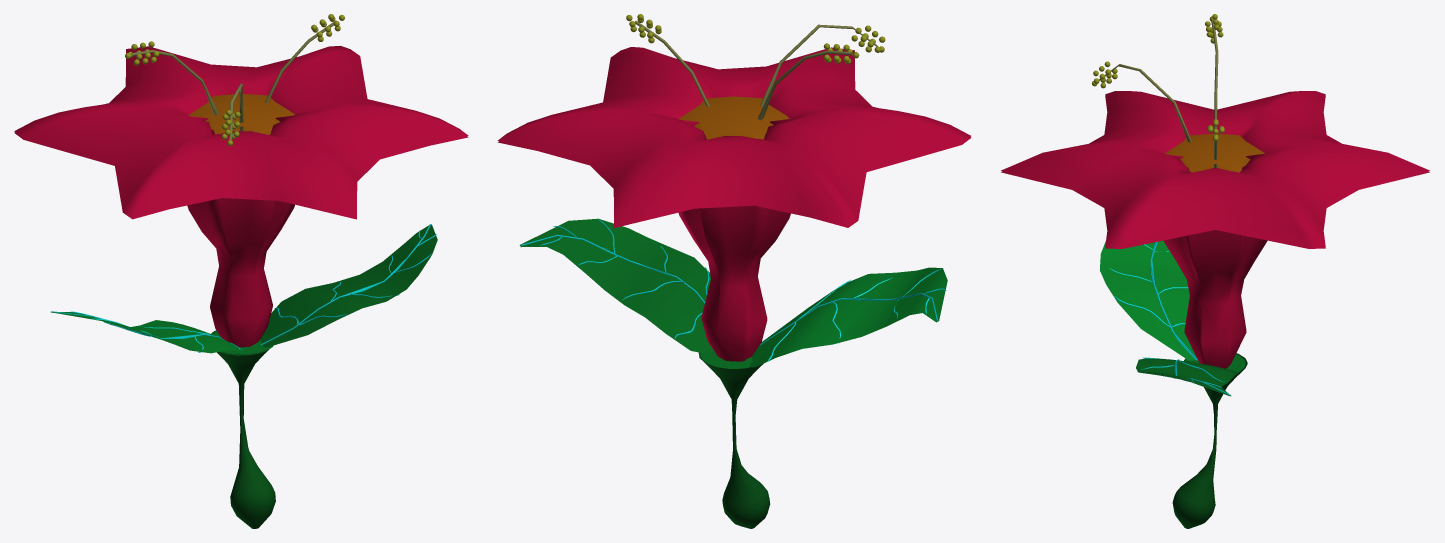
File: Flower_01.fbx
The picture shows the model from 3 angles, left to right: view 1: azimuth 30°, elevation 25°; view 2: azimuth 150°, elevation 25°; view 3: azimuth 270°, elevation 25°; orthographic projection. The views are drawn at different scales.
Visible parts, largest first — view 1: flowerTop, flowerBottom, leftLeafTop, stem, pCylinder1, rightLeafTop, nurbsToPoly25; view 2: flowerTop, leftLeafTop, rightLeafTop, flowerBottom, stem, pCylinder1, nurbsToPoly25; view 3: flowerTop, flowerBottom, rightLeafTop, stem, pCylinder1, leftLeafTop.
Boxes of the visible parts, box(x1,y1,x2,y2) form: flowerTop: box(14, 45, 468, 317); flowerBottom: box(14, 129, 468, 347); leftLeafTop: box(260, 224, 437, 347); stem: box(211, 330, 275, 528); pCylinder1: box(188, 94, 294, 134); rightLeafTop: box(51, 312, 247, 352); nurbsToPoly25: box(260, 224, 436, 344); flowerTop: box(497, 47, 970, 330); leftLeafTop: box(520, 218, 713, 352); rightLeafTop: box(749, 267, 947, 366); flowerBottom: box(497, 134, 971, 361); stem: box(698, 352, 770, 528); pCylinder1: box(679, 96, 789, 139); nurbsToPoly25: box(521, 219, 709, 339); flowerTop: box(1001, 91, 1429, 342); flowerBottom: box(1001, 97, 1429, 368); rightLeafTop: box(1100, 240, 1197, 360); stem: box(1172, 353, 1247, 528); pCylinder1: box(1165, 133, 1264, 172); leftLeafTop: box(1136, 358, 1238, 395).
Bounding box in the file's own units: 568 × 692 × 579.
